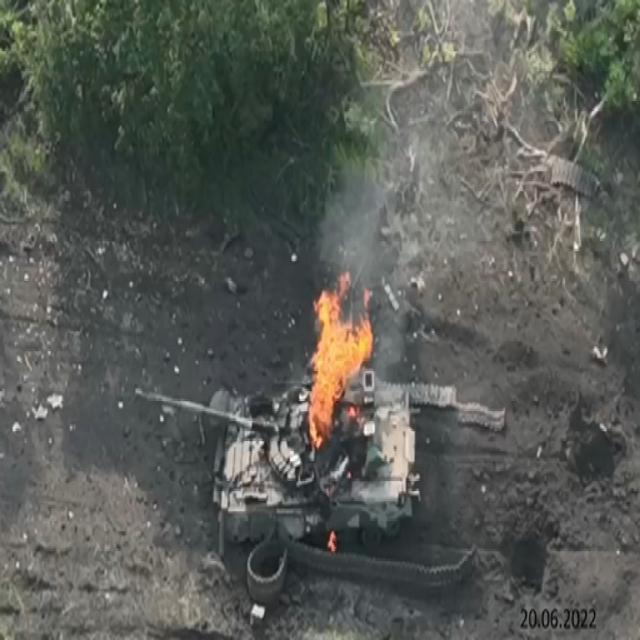TANK: (124, 344, 420, 564)
